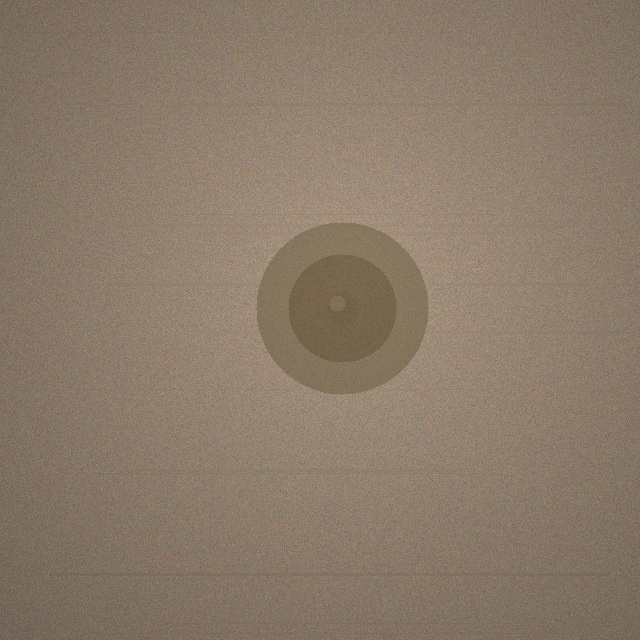good: (256, 222, 428, 394)
